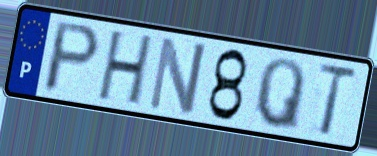8: (206, 47, 250, 123)
H: (94, 28, 157, 109)
N: (145, 34, 210, 118)
P: (39, 19, 104, 96)
Q: (253, 56, 308, 135)
T: (315, 62, 359, 140)
